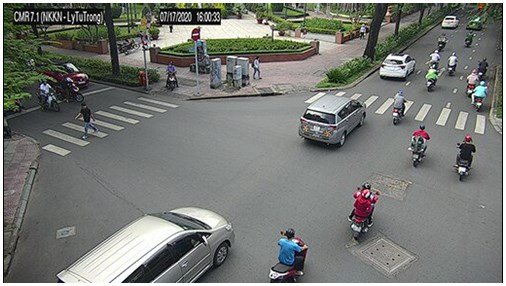di_bo: (74, 102, 98, 139), (251, 56, 262, 79), (360, 24, 366, 40)
xe_hoi: (55, 206, 236, 283), (298, 94, 366, 148), (378, 53, 416, 79), (53, 63, 90, 89), (466, 14, 484, 31), (440, 15, 459, 28)
xe_may: (266, 228, 307, 282), (348, 183, 380, 240), (408, 123, 431, 168), (456, 133, 476, 183), (36, 79, 60, 113), (60, 75, 85, 102), (392, 90, 407, 123), (114, 39, 140, 55), (424, 65, 439, 91), (165, 62, 178, 92), (446, 51, 458, 74), (434, 32, 447, 51), (428, 49, 440, 68), (465, 30, 475, 47)
